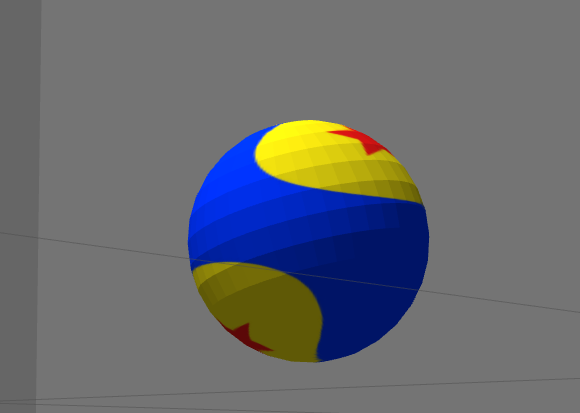toy story ball: (188, 119, 429, 362)
